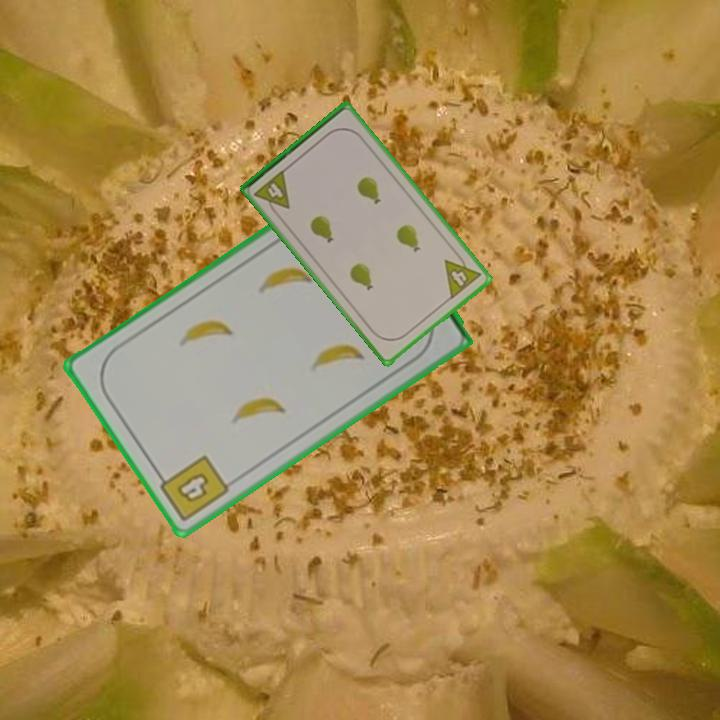4b: (152, 451, 232, 525)
4p: (441, 248, 484, 302), (251, 166, 293, 219)
